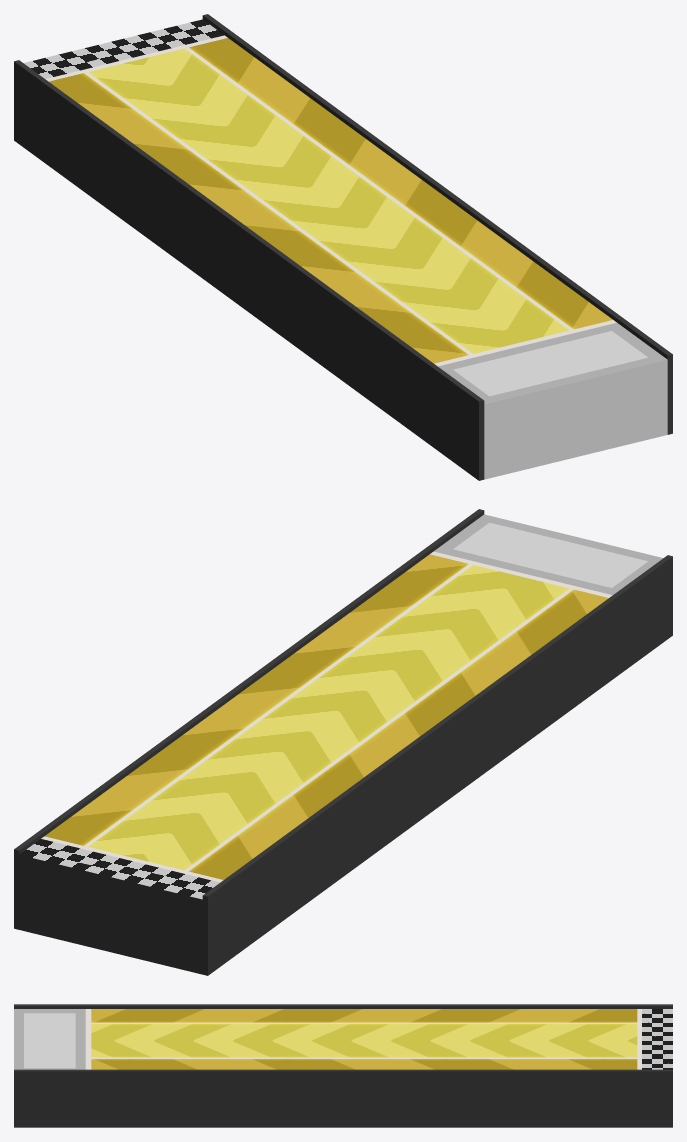
Rendered from finish_line.fbx.
3 views of the same model, one above another, from view 1: azimuth 30°, elevation 25°; view 2: azimuth 150°, elevation 25°; view 3: azimuth 270°, elevation 25° (orthographic). The views are drawn at different scales.
Visible parts, largest first — view 1: finish; view 2: finish; view 3: finish.
Part boxes in pixels (bbox=[...]): finish: bbox=[14, 14, 672, 480]; finish: bbox=[14, 509, 672, 975]; finish: bbox=[14, 1004, 672, 1127].
Bounding box in the file's own units: 9 × 3.51 × 37.38.
5 materials, 2 textured.
